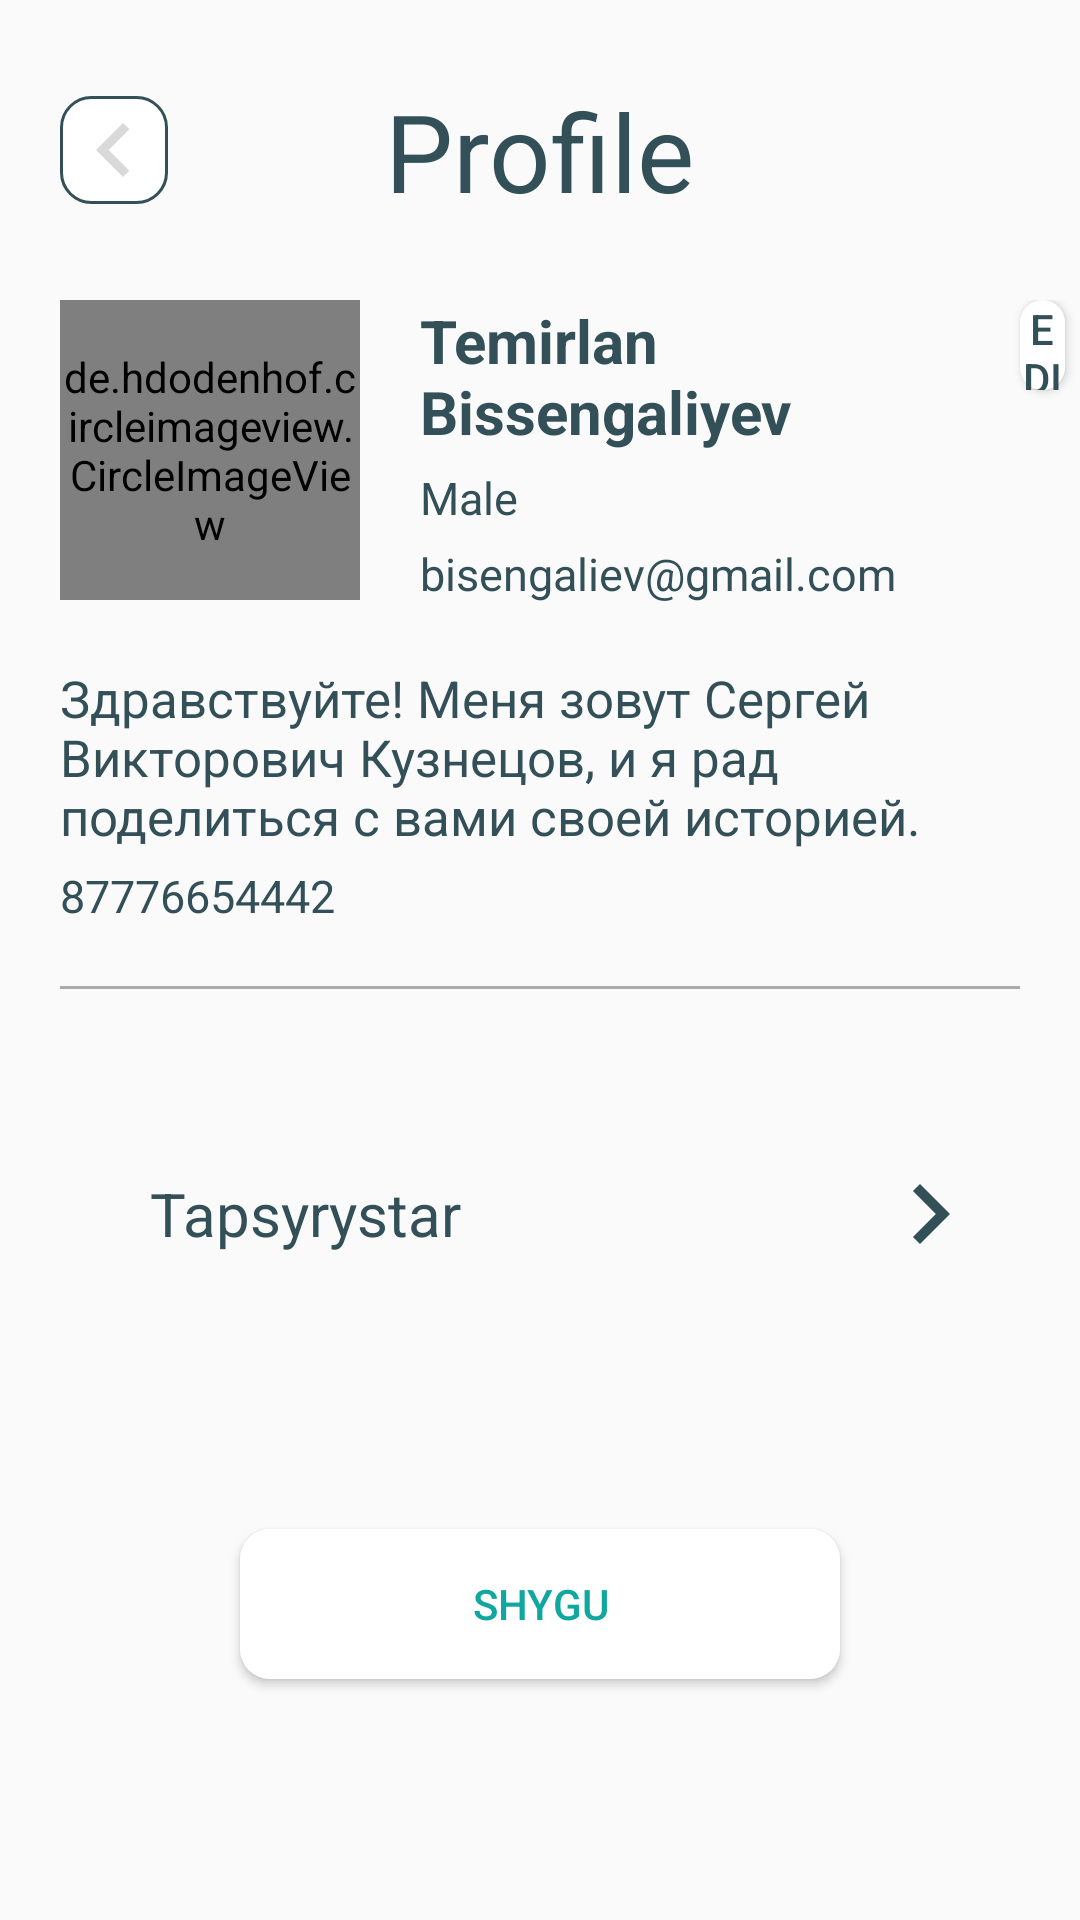

Point at icon controls on the screen. Image size 1080*1920, points as (x=x, y=y).
back: (x=114, y=150)
chevron right: (x=931, y=1214)
